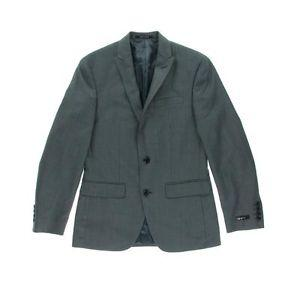F_M_suit jacket: (35, 28, 264, 247)
